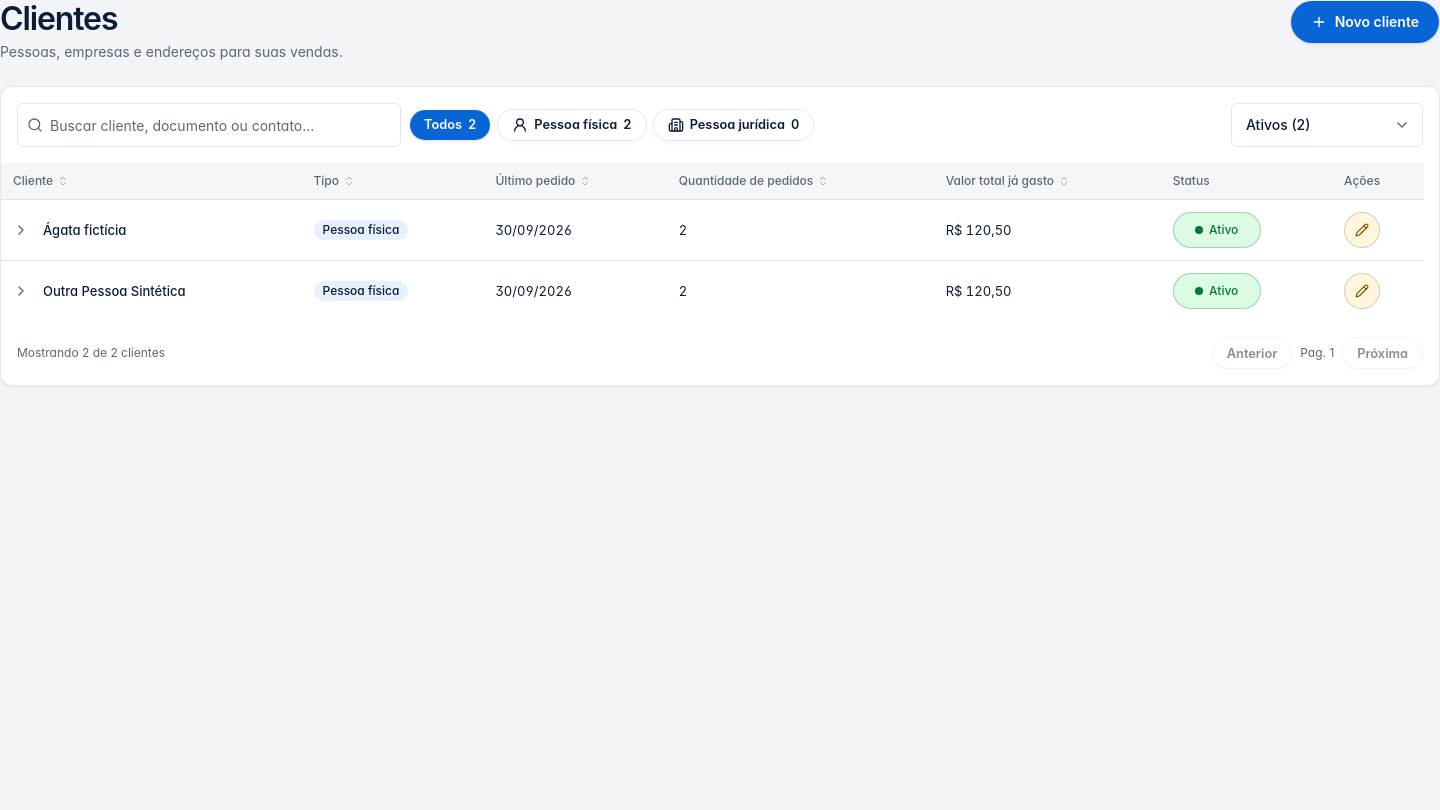
clientes com padrões de Insumos › encontra a raiz por identidade anterior   EMAIL.ALIAS@EXAMPLE.INVALID   sem trocar seus dados atuais
Type "  EMAIL.ALIAS@EXAMPLE.INVALID  " into the field named "Buscar clientes".
click(209, 125); type("  EMAIL.ALIAS@EXAMPLE.INVALID  ")  # box [17,103,401,147]
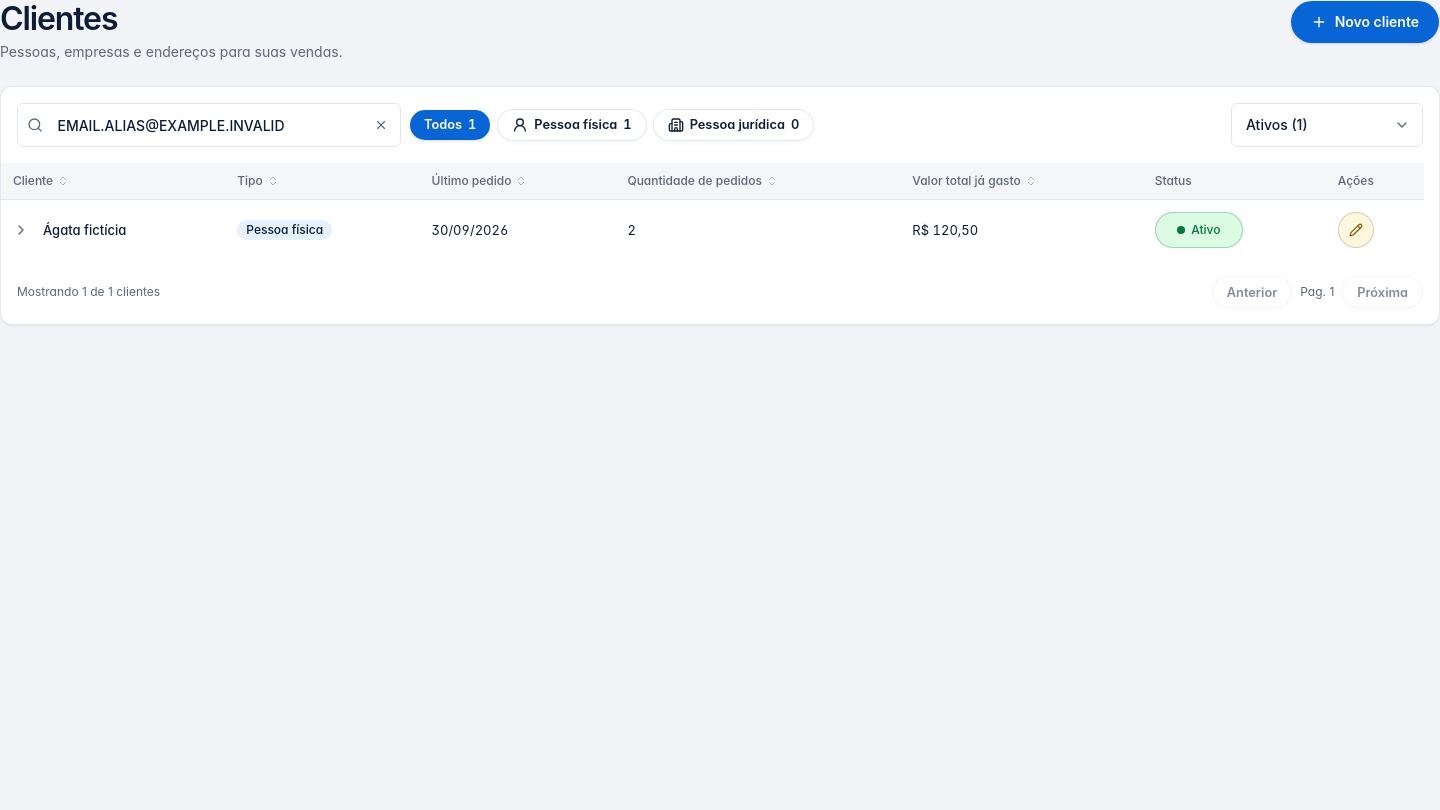
Expected: the text "Ágata fictícia" is shown, [43,221,126,240]
Now the text "Outra Pessoa Sintética" is gone
Click the button named "Editar Ágata fictícia".
click(1356, 230)  # box [1338,212,1374,248]
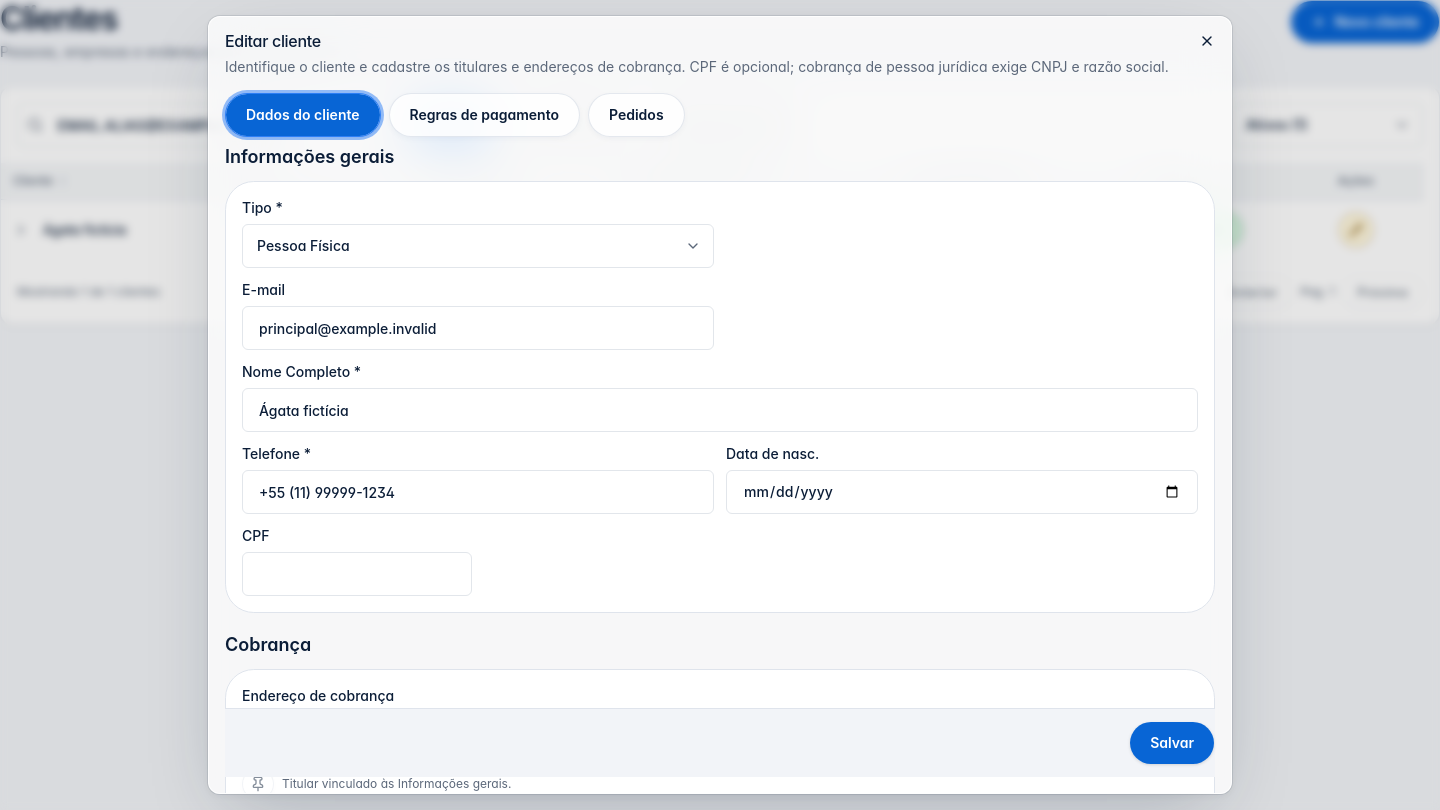
Now the field labelled "E-mail" holds "principal@example.invalid", box [242,306,714,350]
